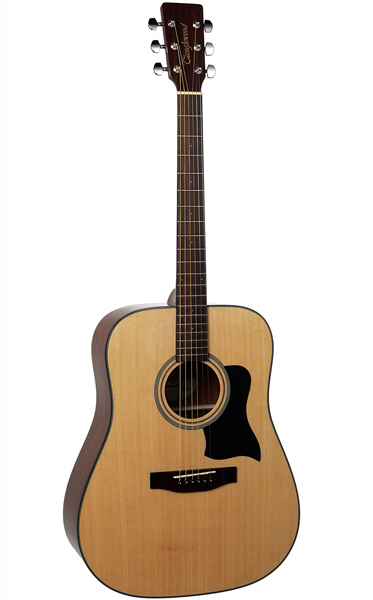guitar: (62, 2, 302, 600)
